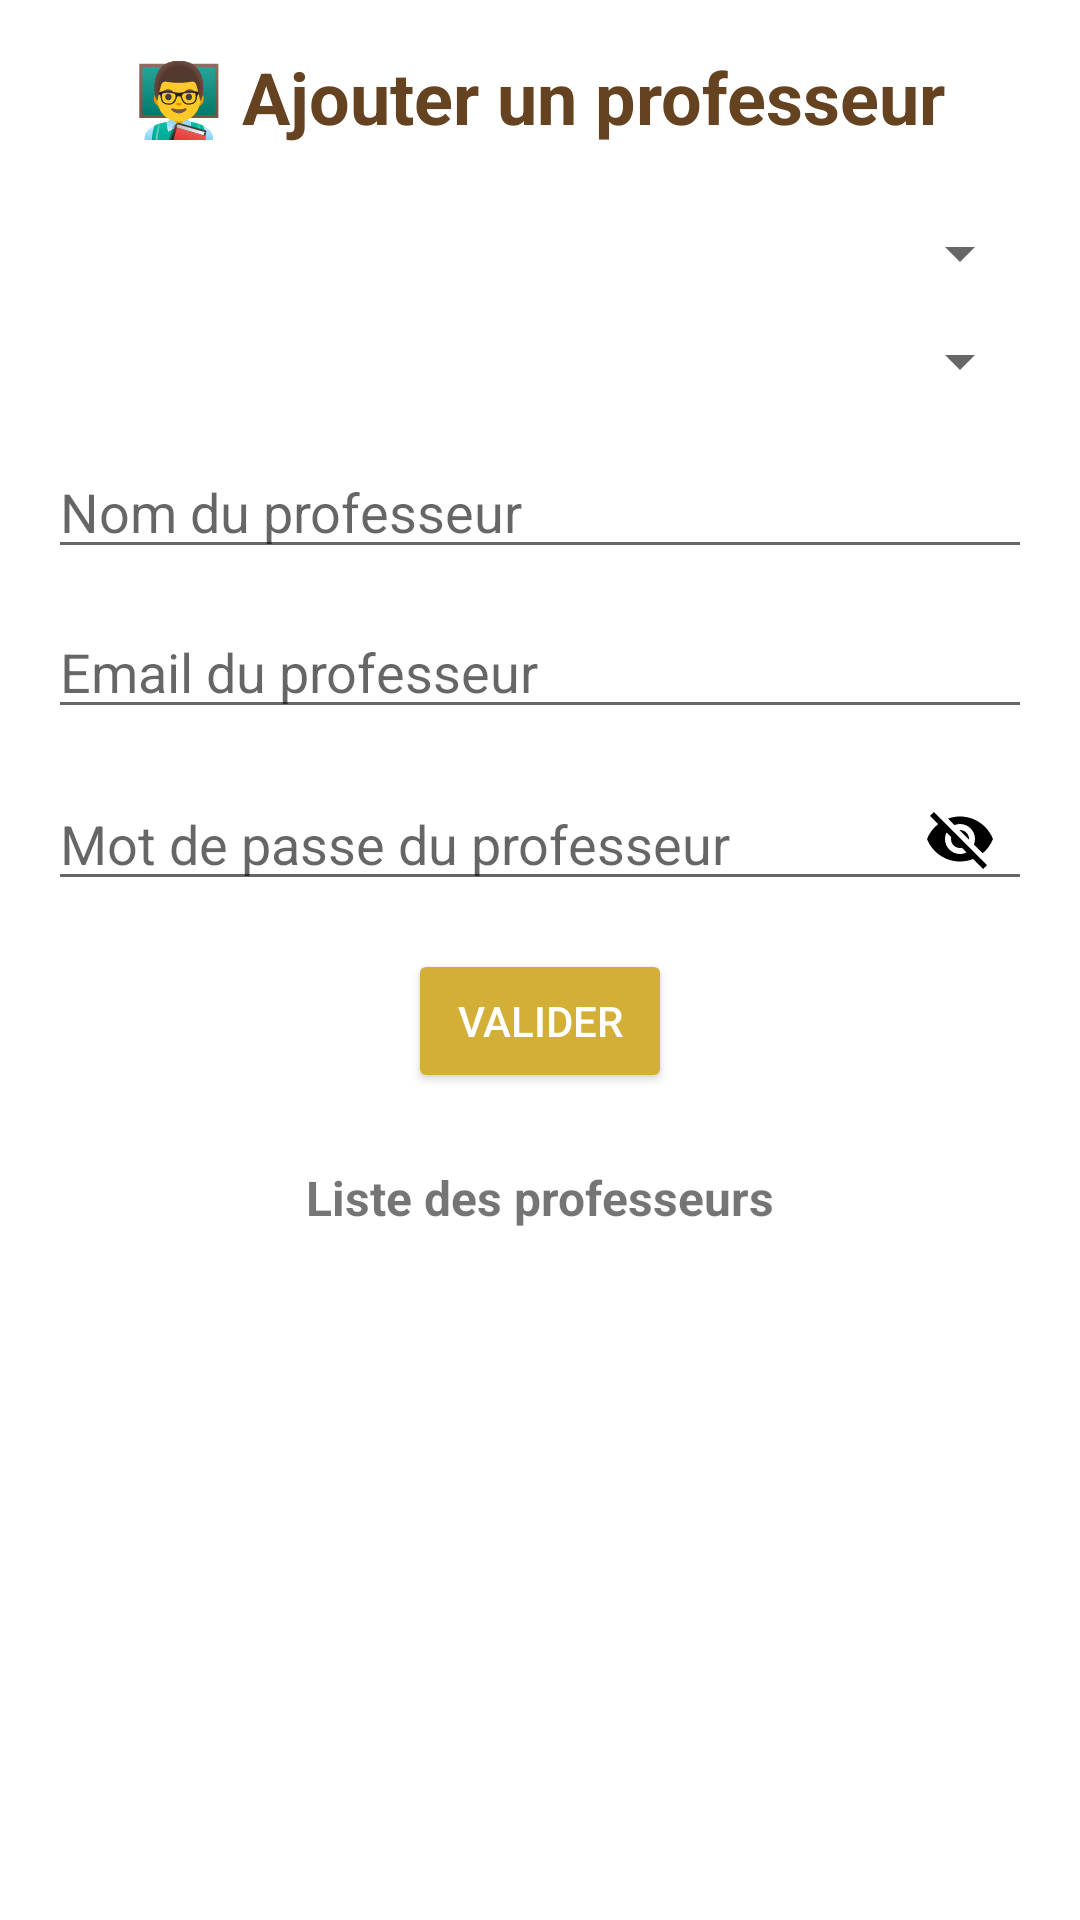

Icon click points for this 1080 x 1920 phone screenshot, format [x,y]:
visibility off: [960,840]
